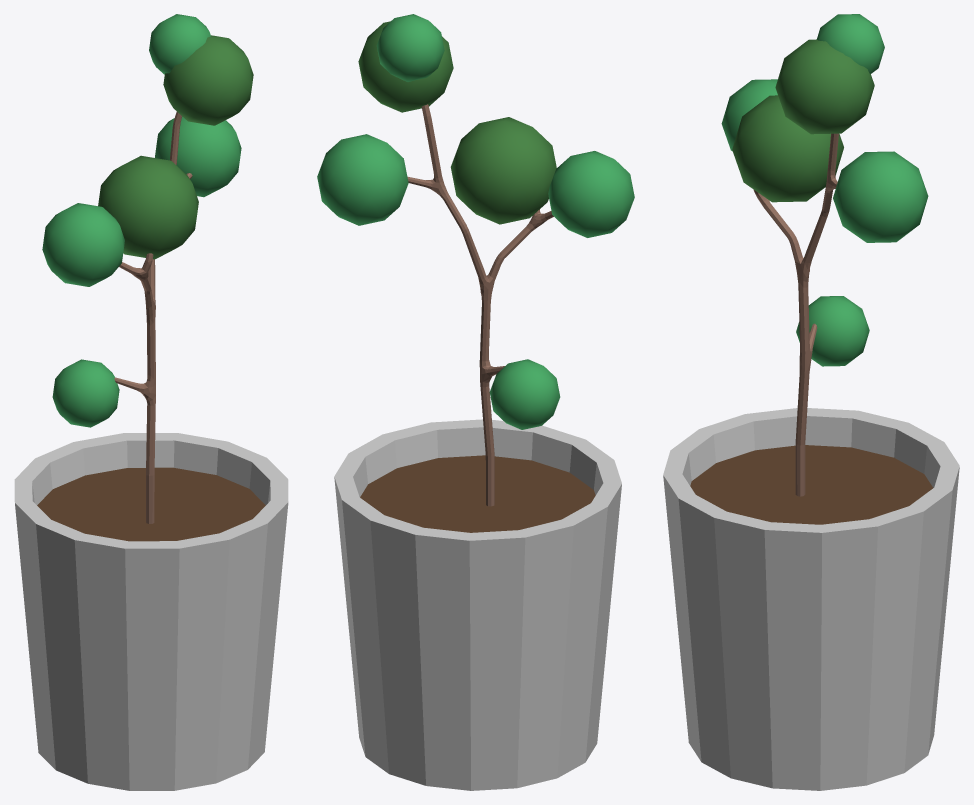
The model's file is Plante1.fbx.
The picture shows the model from 3 angles, left to right: view 1: azimuth 30°, elevation 25°; view 2: azimuth 150°, elevation 25°; view 3: azimuth 270°, elevation 25°; orthographic projection. The views are drawn at different scales.
Parts seen in each view (by area): view 1: Plante1.001; view 2: Plante1.001; view 3: Plante1.001.
Boxes of the visible parts, x1=… form: Plante1.001: x1=14, y1=14, x2=288, y2=790; Plante1.001: x1=317, y1=14, x2=634, y2=790; Plante1.001: x1=663, y1=14, x2=959, y2=790.
Size of the model in its own units: 43.81 by 120 by 43.14.
